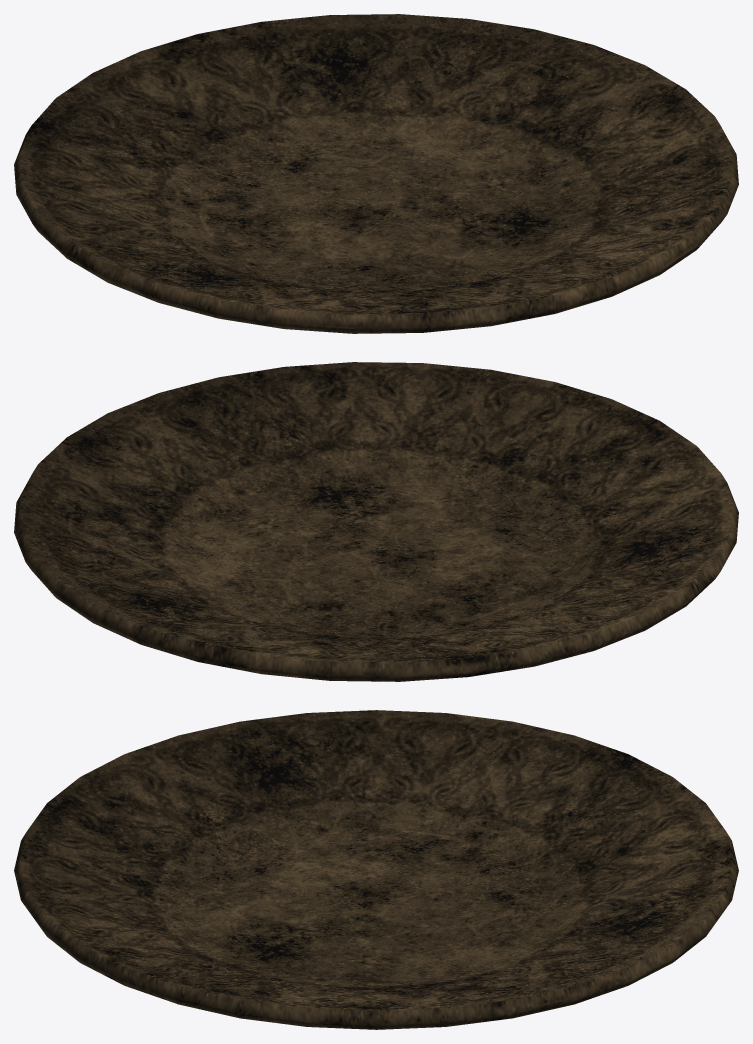
The model's file is plate.fbx.
3 views of the same model, one above another, from view 1: azimuth 30°, elevation 25°; view 2: azimuth 150°, elevation 25°; view 3: azimuth 270°, elevation 25° (orthographic).
Visible parts, largest first — view 1: Object_2; view 2: Object_2; view 3: Object_2.
Part boxes in pixels (x1=…): Object_2: x1=14, y1=14, x2=738, y2=333; Object_2: x1=14, y1=362, x2=738, y2=681; Object_2: x1=14, y1=710, x2=738, y2=1029.
Bounding box in the file's own units: 5083 × 512 × 5083.
